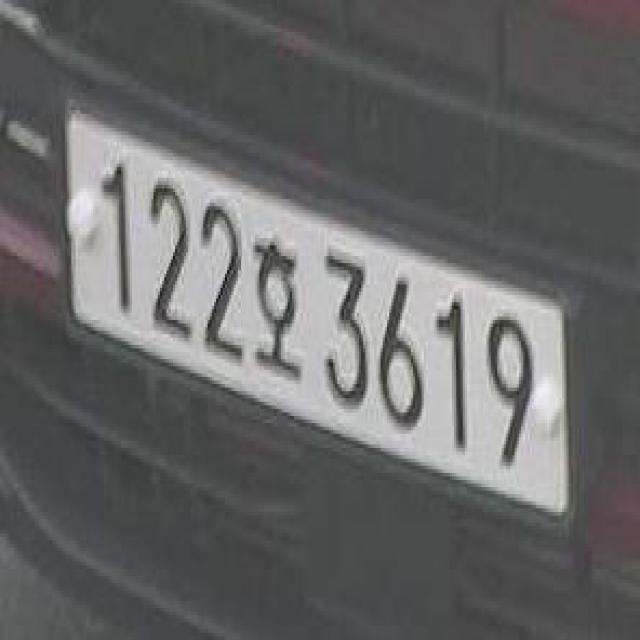illegal_plate: (56, 104, 569, 523)
